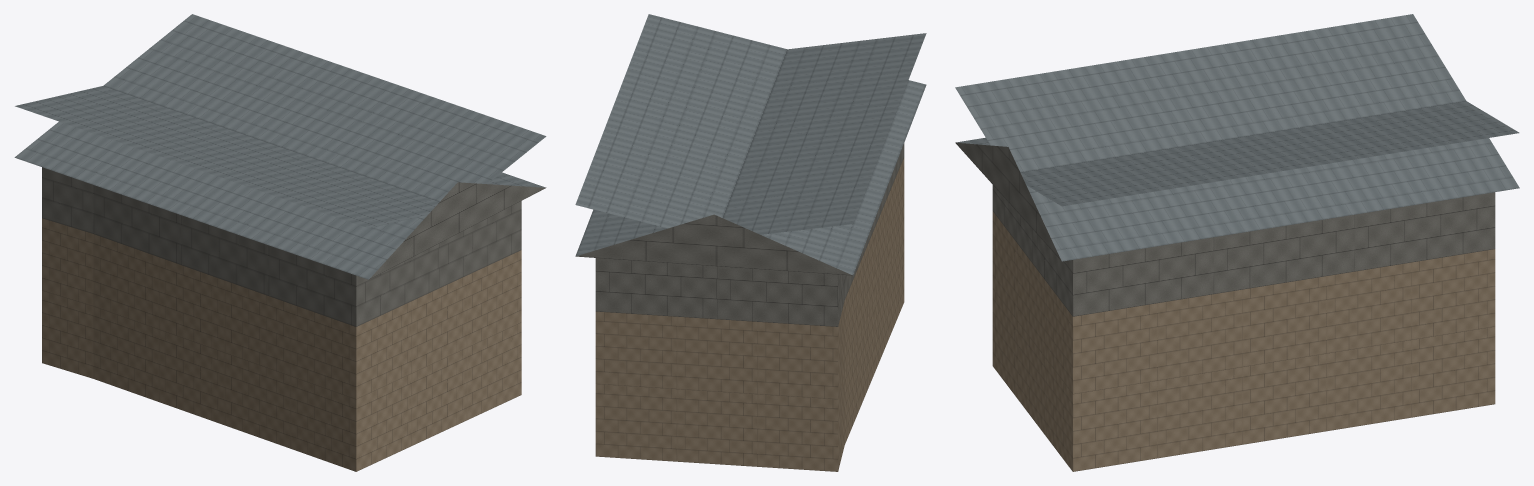
File: bld_c35_36_306.gltf
The picture shows the model from 3 angles, left to right: view 1: azimuth 30°, elevation 25°; view 2: azimuth 150°, elevation 25°; view 3: azimuth 270°, elevation 25°; orthographic projection. The views are drawn at different scales.
Visible parts, largest first — view 1: bld_c35_36_306; view 2: bld_c35_36_306; view 3: bld_c35_36_306.
Boxes of the visible parts, <box> form: bld_c35_36_306: <box>14,14,546,471</box>; bld_c35_36_306: <box>575,14,926,471</box>; bld_c35_36_306: <box>955,14,1519,471</box>.
Size of the model in its own units: 11.97 by 8 by 14.85.
4 materials, 4 textured.
